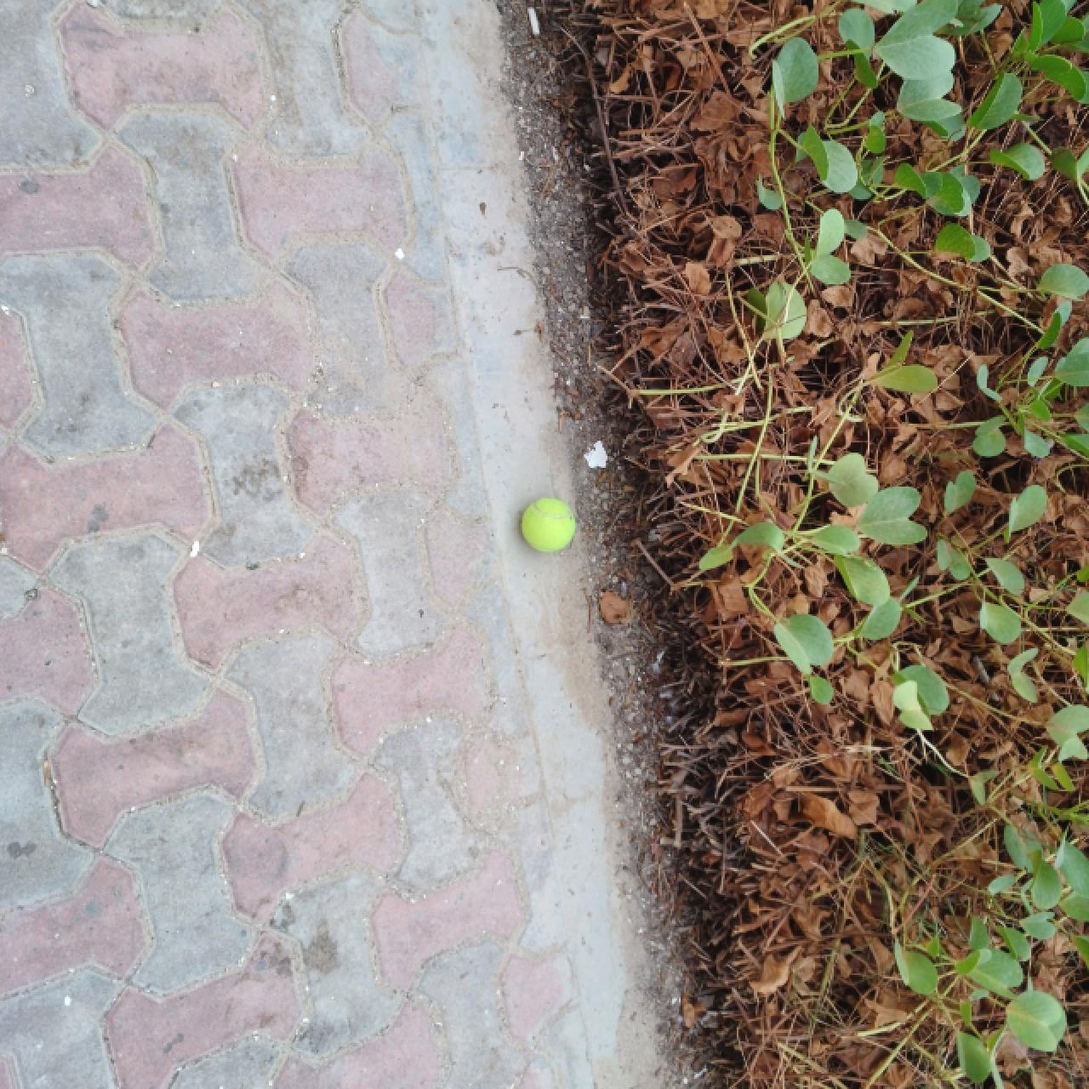tennis-ball: (521, 495, 577, 556)
